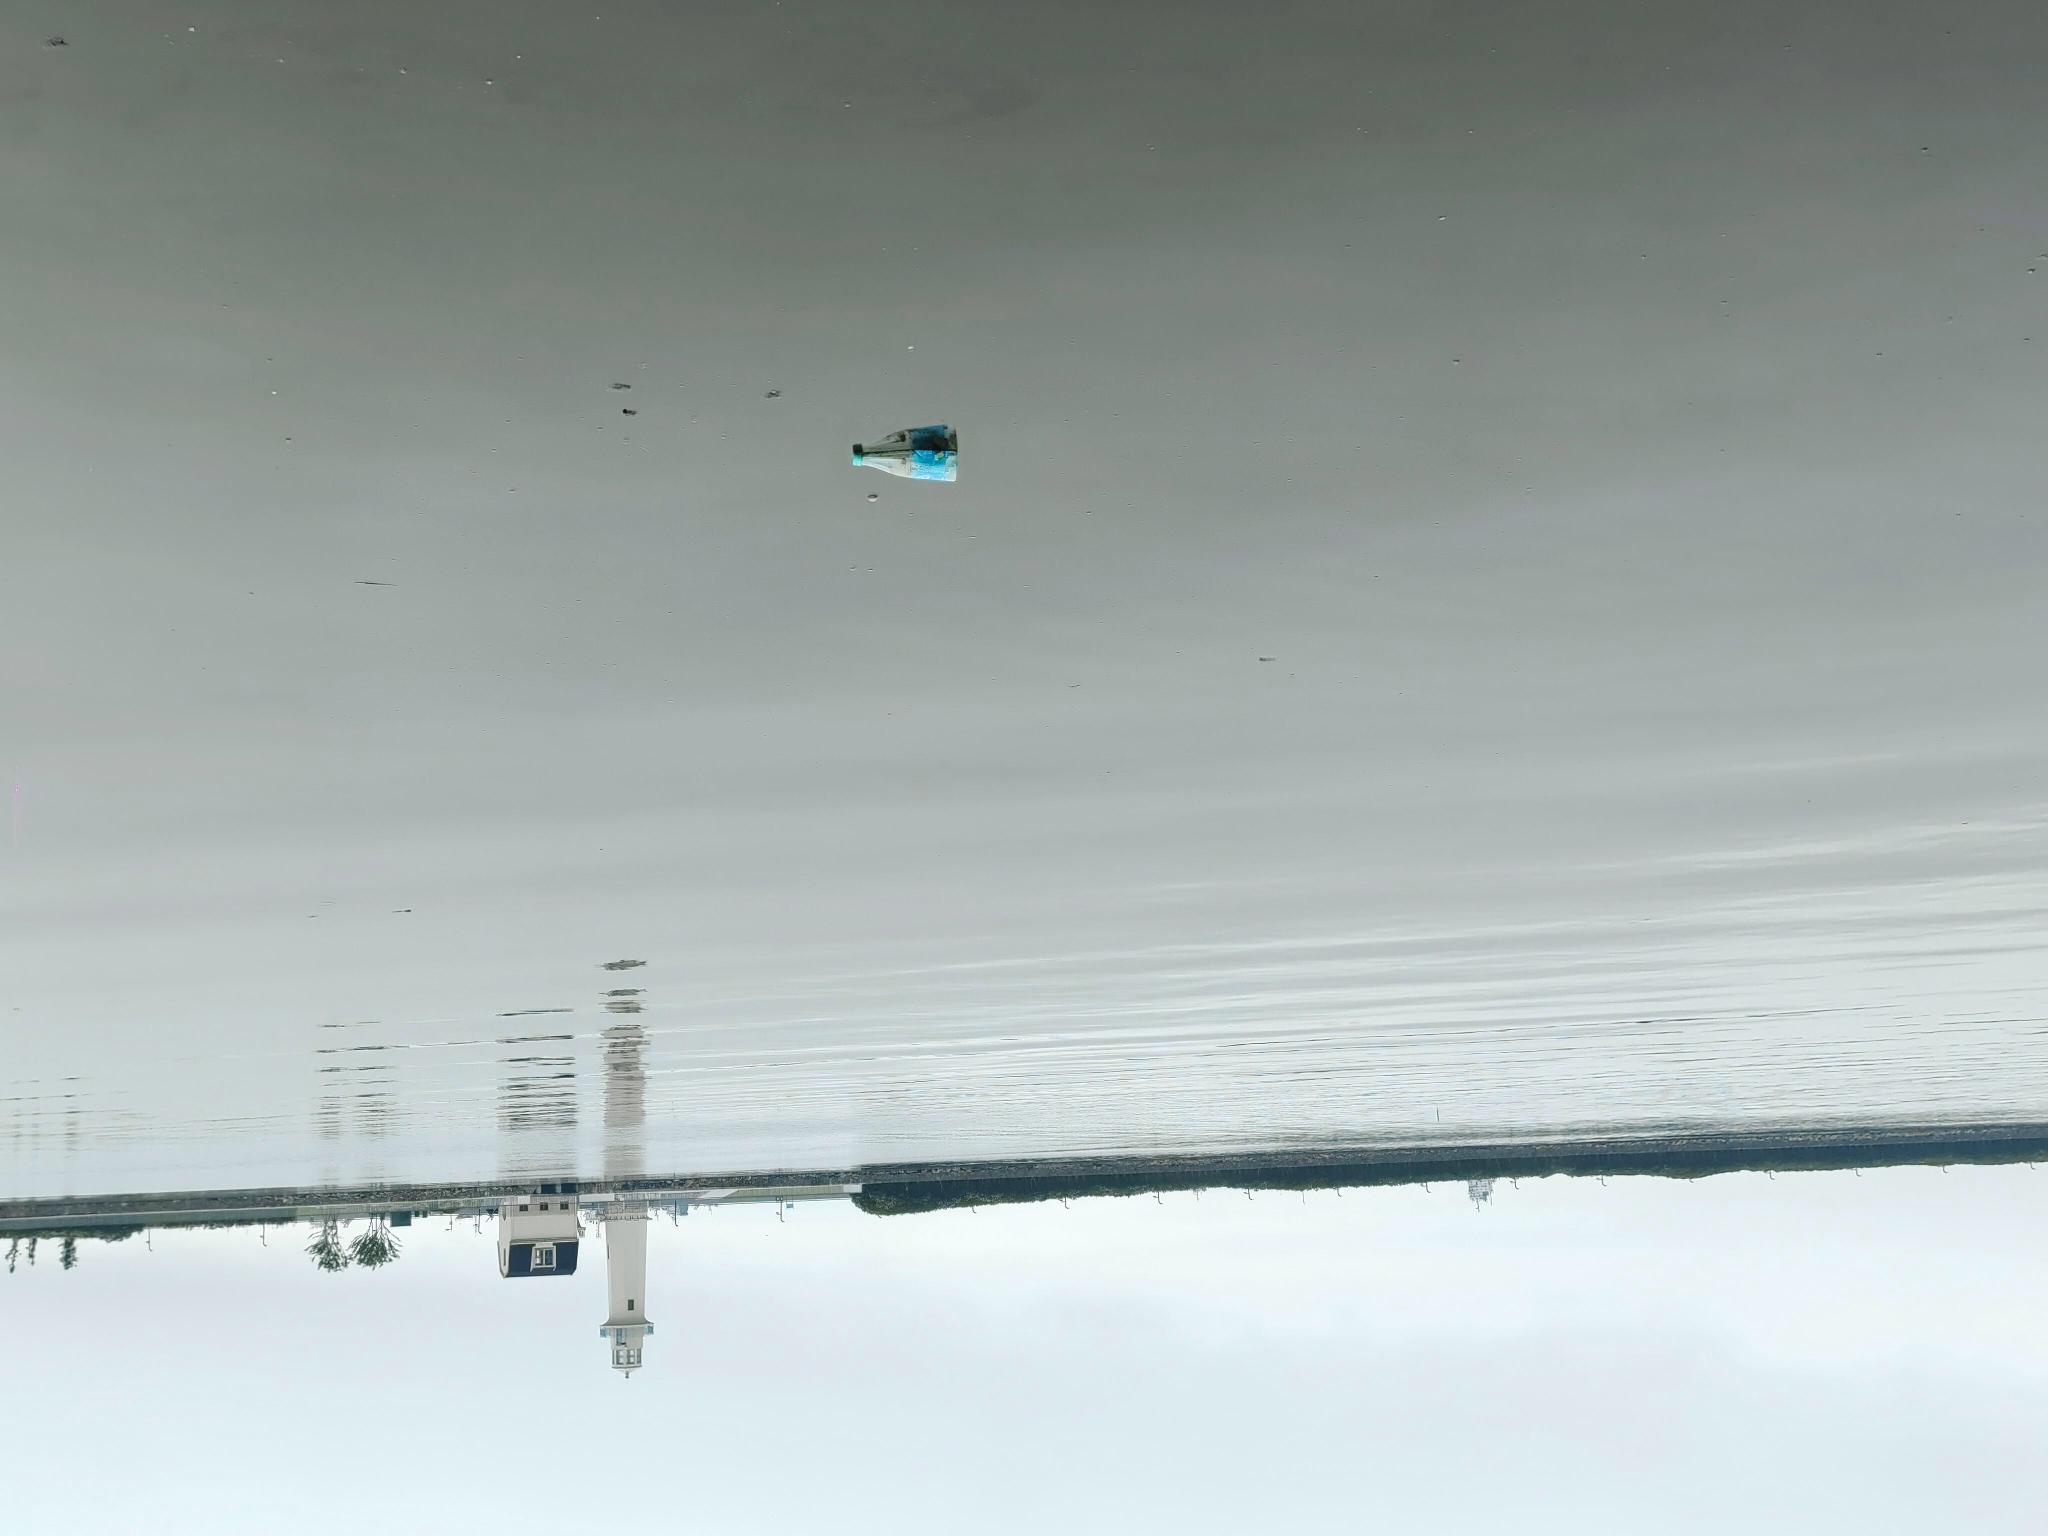Plastic: (856, 436, 966, 484)
